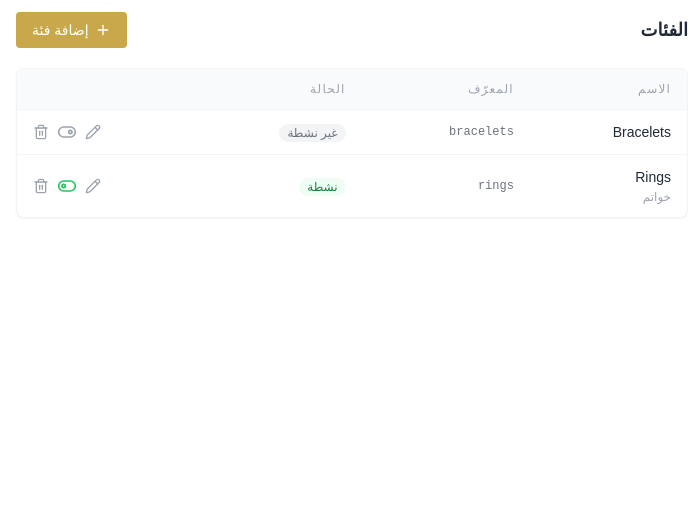
categories in Arabic (NEX-64) › titles the form for an edit
This screenshot has width=700, height=527.
Click the button named "تعديل: Rings" at [93, 186], box [85,178,101,194]
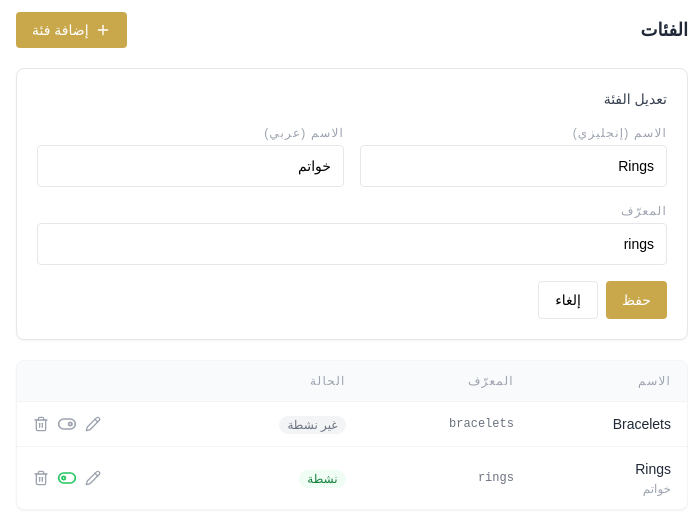
Result: the text "تعديل الفئة" is shown at [604,91,667,107]
Result: the field labelled "المعرّف" holds "rings" at [37,223,667,265]
